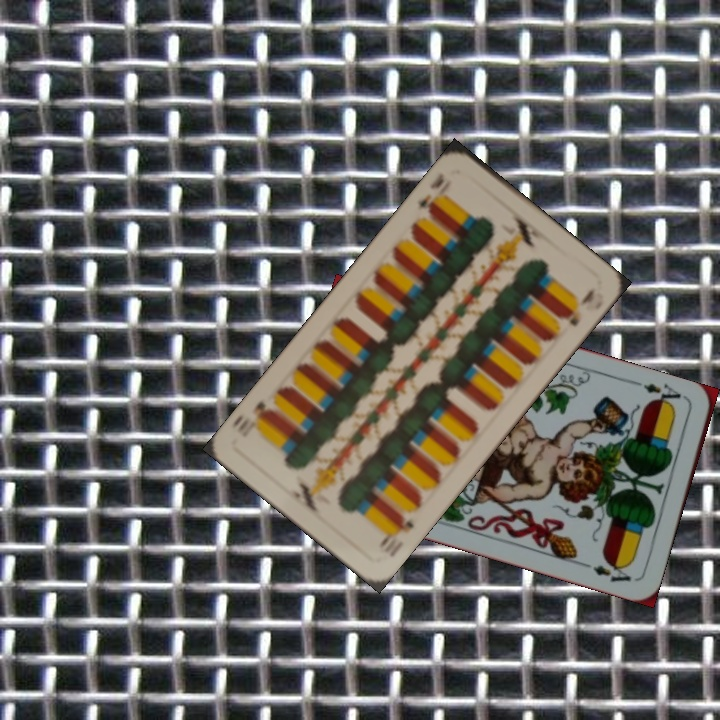E10: (375, 511, 417, 560), (413, 169, 447, 221)
EA: (639, 379, 690, 411)
